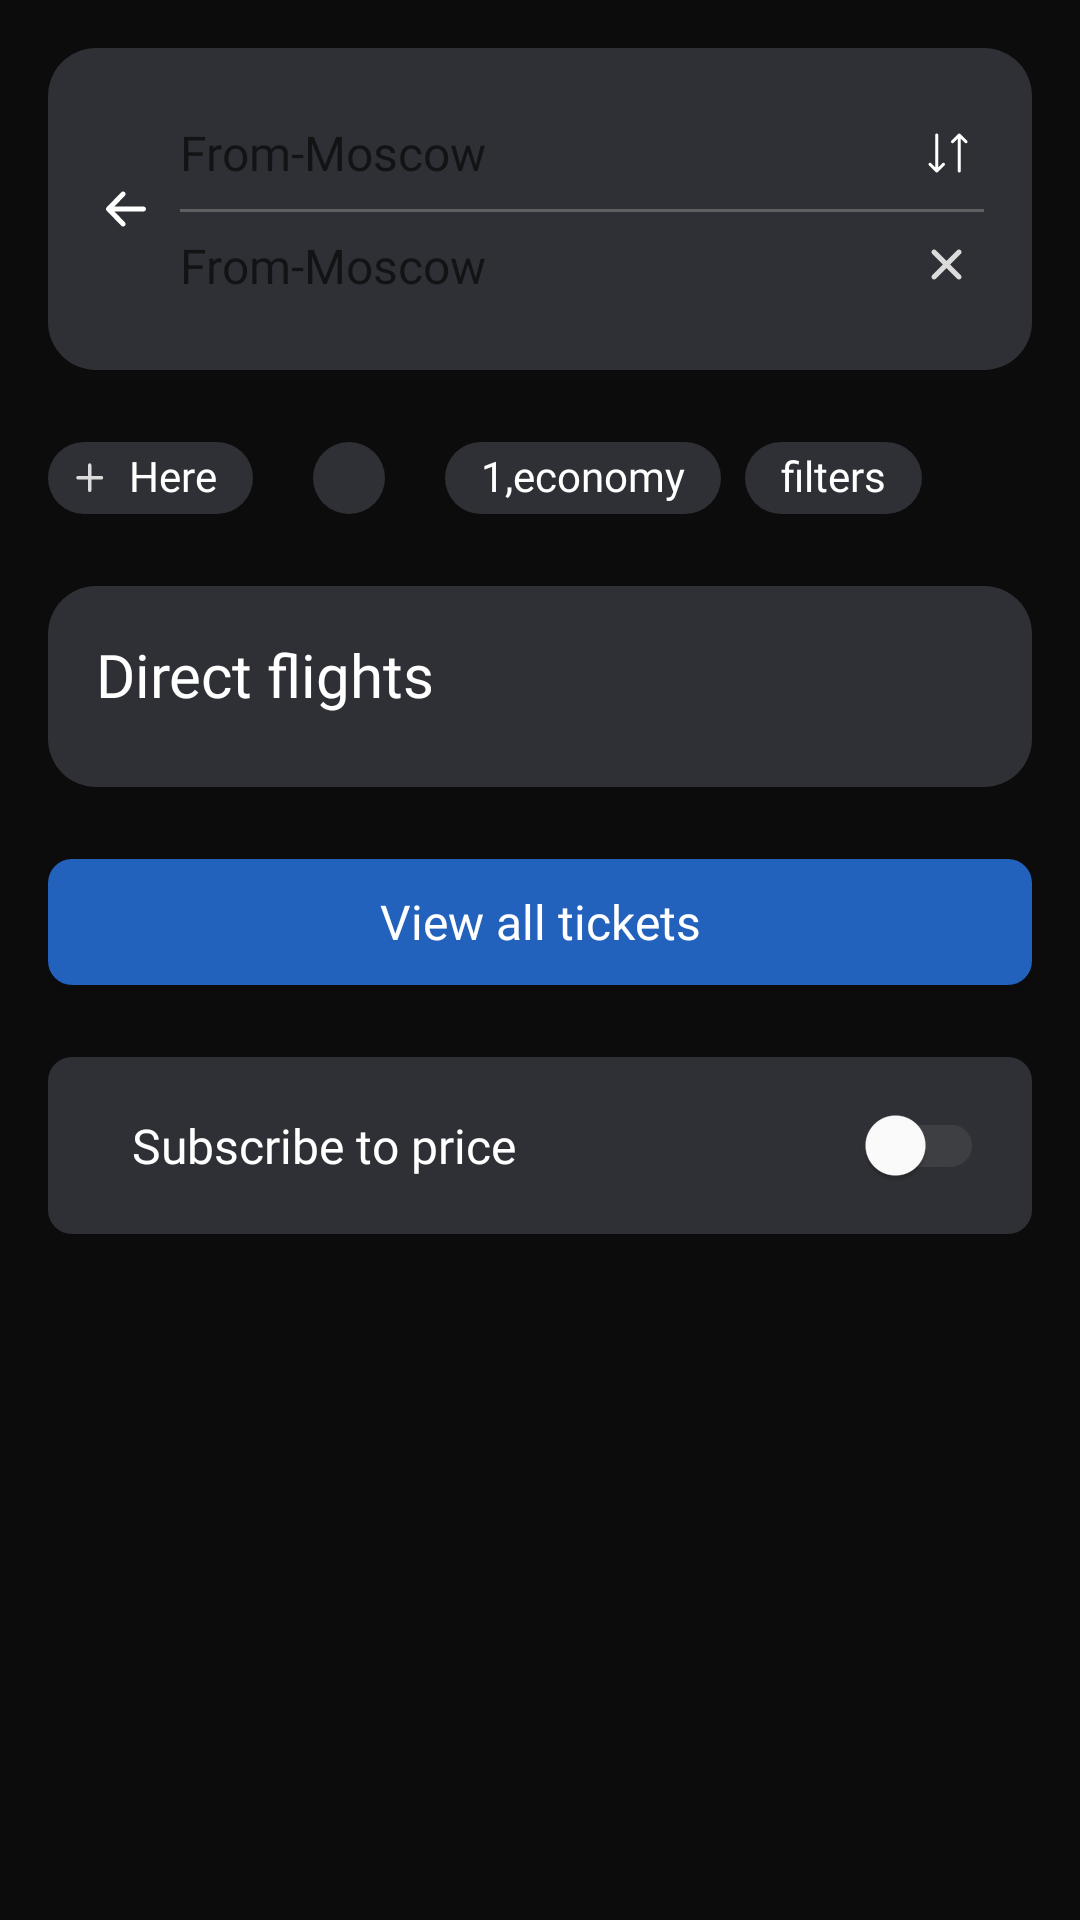

Icons on this 1080*1920 Android screen, each with its box as {"left": x1, "top": y1, "right": x2, "bottom": y2}:
back: {"left": 106, "top": 191, "right": 146, "bottom": 227}
close: {"left": 931, "top": 249, "right": 962, "bottom": 280}
replace: {"left": 928, "top": 133, "right": 968, "bottom": 173}
